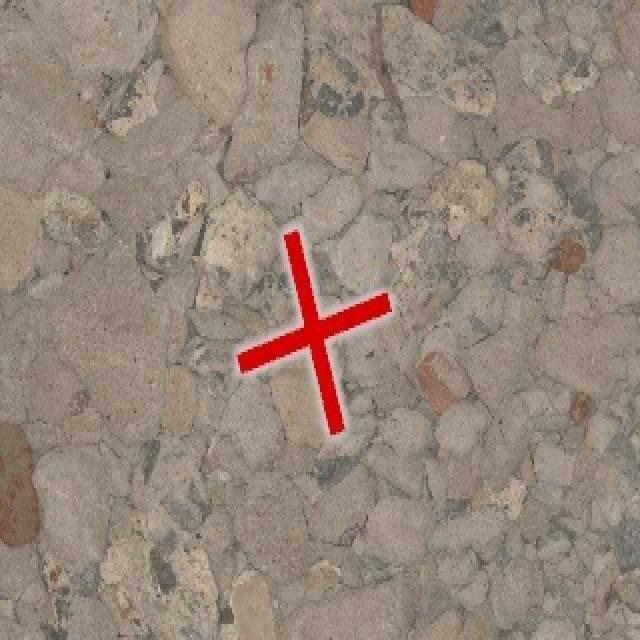x_marker: (237, 228, 391, 436)
